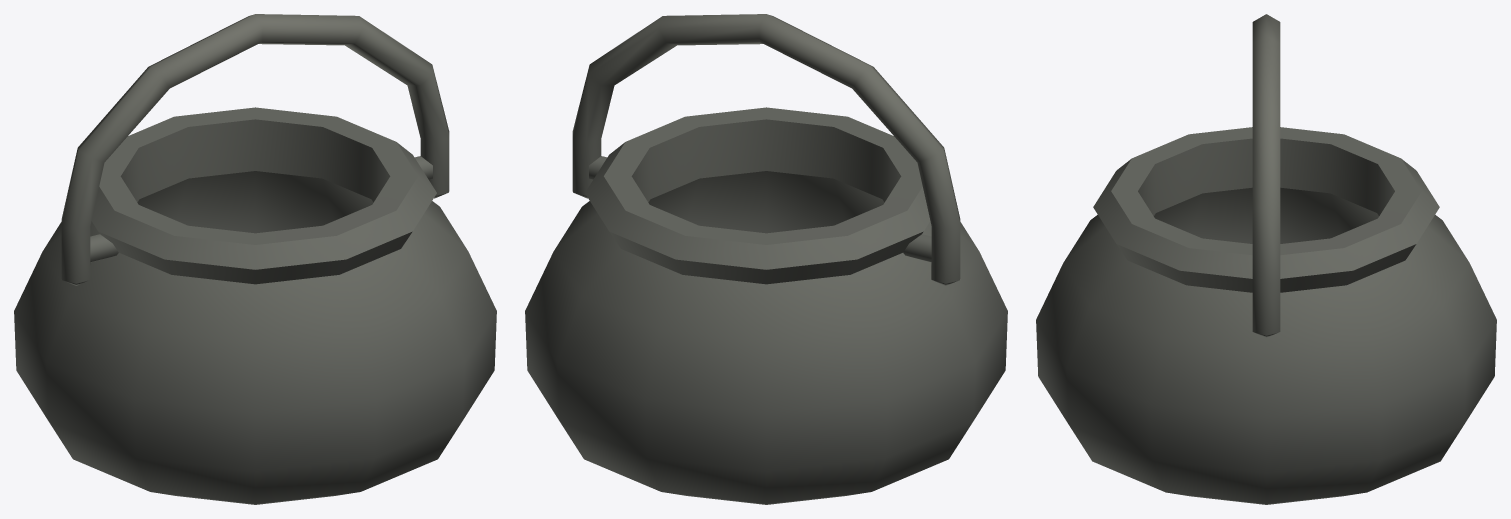
The model's file is Pot_Steel_C.fbx.
3 views of the same model, side by side, from view 1: azimuth 30°, elevation 25°; view 2: azimuth 150°, elevation 25°; view 3: azimuth 270°, elevation 25° (orthographic). The views are drawn at different scales.
Visible parts, largest first — view 1: Pot_Steel_C; view 2: Pot_Steel_C; view 3: Pot_Steel_C.
Part boxes in pixels (x1,y1,x2,y2): Pot_Steel_C: [14, 14, 496, 504]; Pot_Steel_C: [525, 14, 1007, 504]; Pot_Steel_C: [1036, 14, 1496, 504].
Size of the model in its own units: 72.79 by 70.39 by 72.79.
